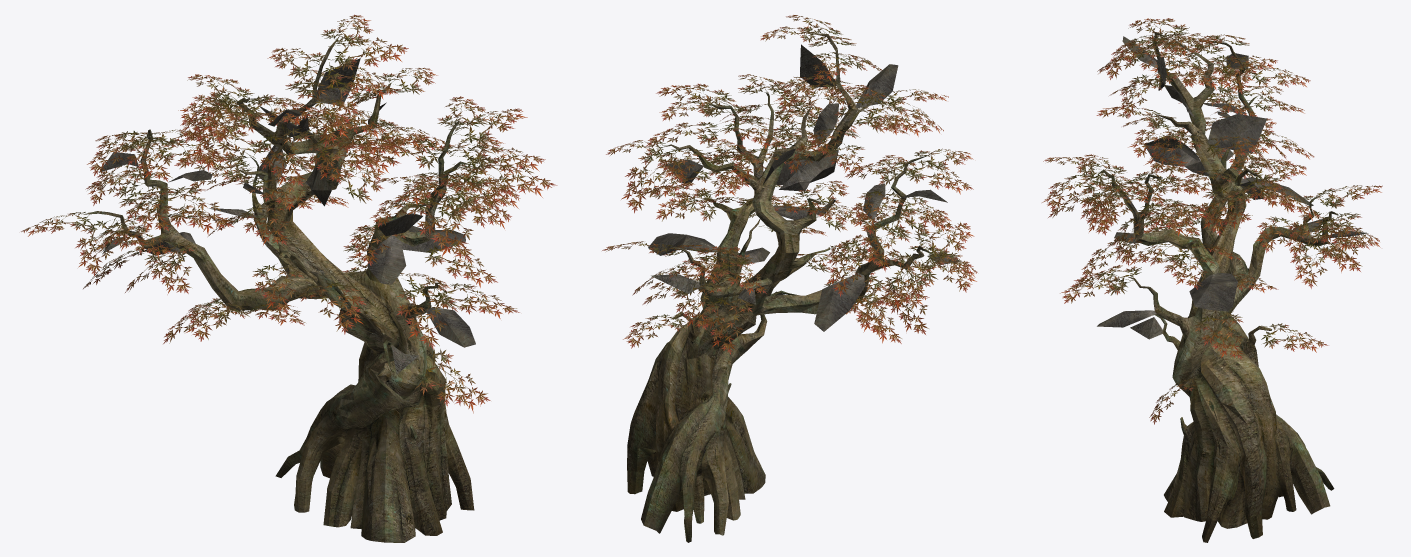
File: bg_anh_tree_a_cocoontree01_sm_ksy.FBX
3 renders of one model, left to right at view 1: azimuth 30°, elevation 25°; view 2: azimuth 150°, elevation 25°; view 3: azimuth 270°, elevation 25°, orthographic. The views are drawn at different scales.
Visible parts, largest first — view 1: bg_anh_tree_a_cocoontree01_sm_ksy; view 2: bg_anh_tree_a_cocoontree01_sm_ksy; view 3: bg_anh_tree_a_cocoontree01_sm_ksy.
Part boxes in pixels (x1,y1,x2,y2): bg_anh_tree_a_cocoontree01_sm_ksy: [21, 14, 557, 542]; bg_anh_tree_a_cocoontree01_sm_ksy: [602, 15, 977, 542]; bg_anh_tree_a_cocoontree01_sm_ksy: [1042, 18, 1382, 542].
Bounding box in the file's own units: 664 × 752 × 563.
